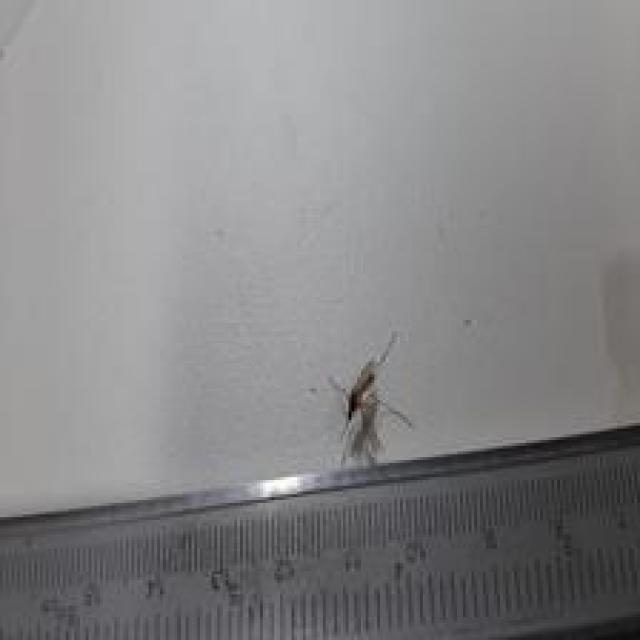Culex: (324, 330, 413, 470)
